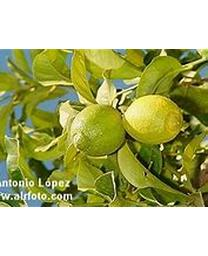lemon: (71, 105, 125, 157), (125, 96, 183, 144)
